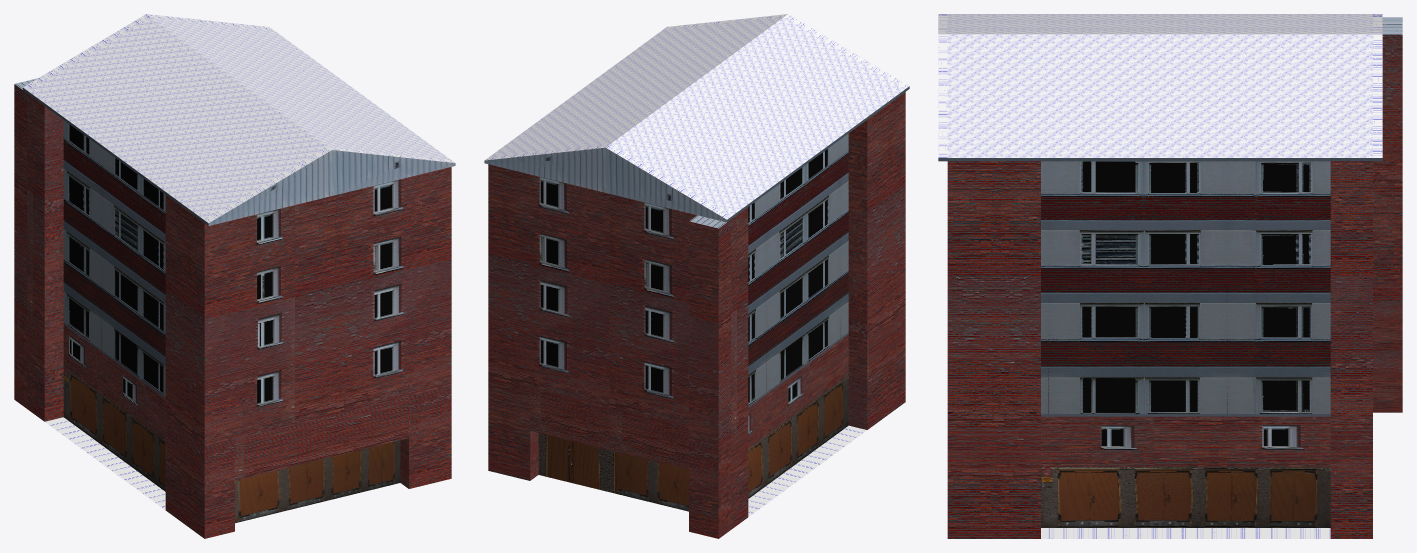
File: kp_building_kaleva_A.glb
The picture shows the model from 3 angles, left to right: view 1: azimuth 30°, elevation 25°; view 2: azimuth 150°, elevation 25°; view 3: azimuth 270°, elevation 25°; orthographic projection. The views are drawn at different scales.
Parts seen in each view (by area): view 1: kaleva-rakennus; view 2: kaleva-rakennus; view 3: kaleva-rakennus.
Part boxes in pixels (left/top/right/bottom): kaleva-rakennus: left=14, top=14, right=455, bottom=538; kaleva-rakennus: left=484, top=14, right=909, bottom=538; kaleva-rakennus: left=938, top=14, right=1402, bottom=538.
Size of the model in its own units: 13.19 by 18.46 by 17.97.
Materials: 5 (5 with a texture image).
